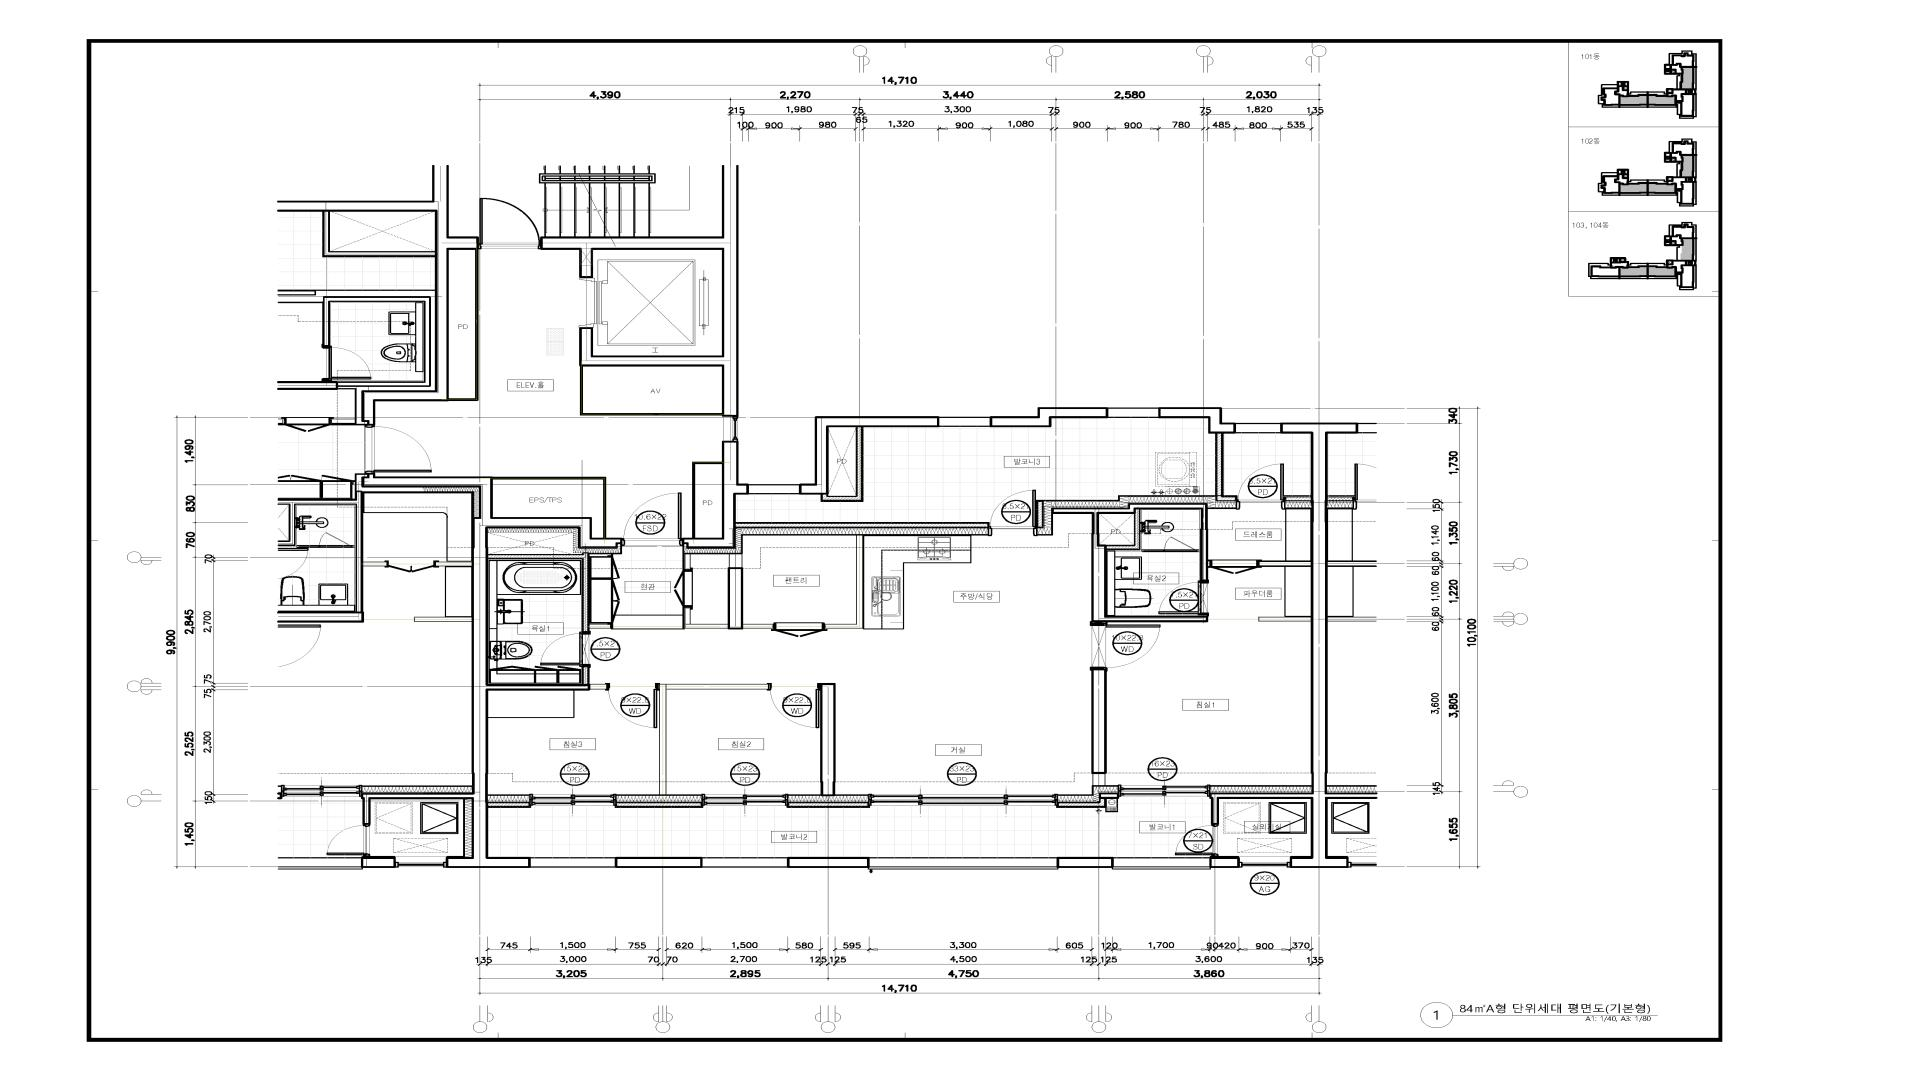door: (1091, 624, 1162, 669), (622, 493, 682, 546), (480, 198, 541, 249), (769, 684, 820, 728), (1237, 463, 1284, 509), (989, 489, 1036, 535), (608, 684, 658, 728), (539, 633, 589, 666), (1158, 582, 1208, 615), (1175, 824, 1218, 856), (775, 622, 824, 638), (1209, 560, 1258, 574), (1164, 537, 1197, 551)
wall: (361, 473, 621, 868), (1211, 422, 1328, 868), (541, 165, 738, 417), (361, 165, 479, 425), (1051, 502, 1208, 622), (659, 684, 769, 795), (799, 417, 939, 495), (488, 553, 589, 633), (683, 440, 749, 549), (824, 535, 864, 629), (820, 427, 864, 502), (990, 407, 1108, 427), (1159, 407, 1236, 434), (820, 683, 836, 796), (736, 522, 989, 529), (1092, 669, 1105, 786), (1215, 434, 1237, 501), (1106, 509, 1141, 550), (728, 554, 744, 629), (616, 857, 702, 868), (787, 857, 868, 868), (1058, 857, 1113, 868), (616, 802, 702, 808), (787, 802, 869, 808), (1058, 799, 1106, 808), (1211, 856, 1240, 868), (1259, 560, 1311, 567), (488, 802, 530, 808), (684, 624, 728, 629), (1258, 617, 1311, 621), (1036, 501, 1043, 527), (744, 624, 774, 629), (582, 666, 589, 684), (1284, 496, 1311, 501), (1098, 793, 1118, 799), (589, 624, 612, 629), (1141, 550, 1163, 553)
window: (869, 794, 1058, 806), (869, 857, 1058, 869), (1113, 857, 1209, 869), (1118, 785, 1209, 796), (530, 794, 616, 806), (703, 794, 787, 806), (702, 857, 787, 868), (530, 857, 616, 868), (1240, 856, 1291, 868), (939, 417, 990, 427), (1108, 407, 1159, 418), (1236, 423, 1280, 434), (723, 415, 738, 440)
